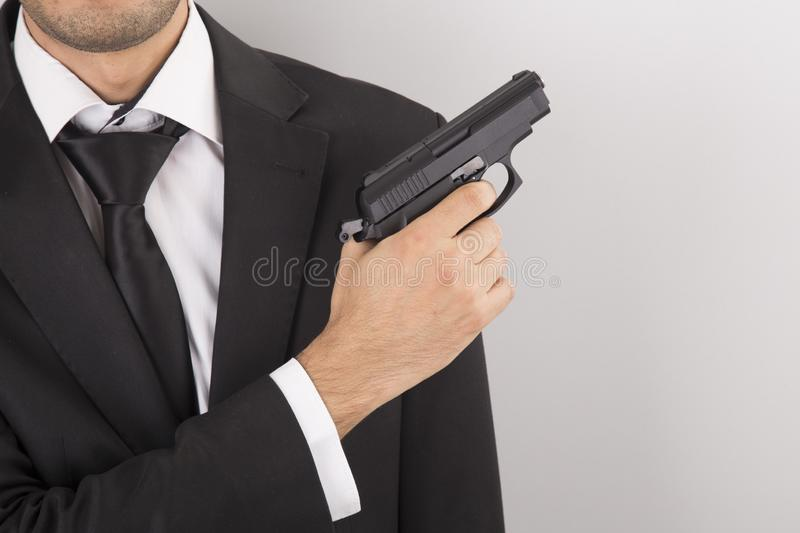weapon: (336, 68, 553, 260)
